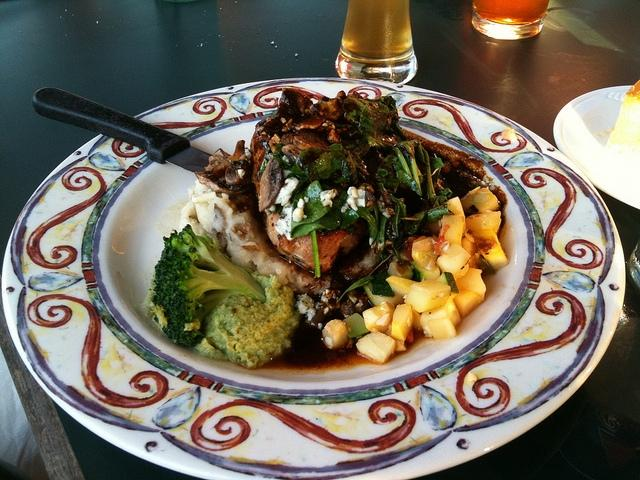broccoli: (146, 224, 266, 348), (195, 272, 300, 369)
